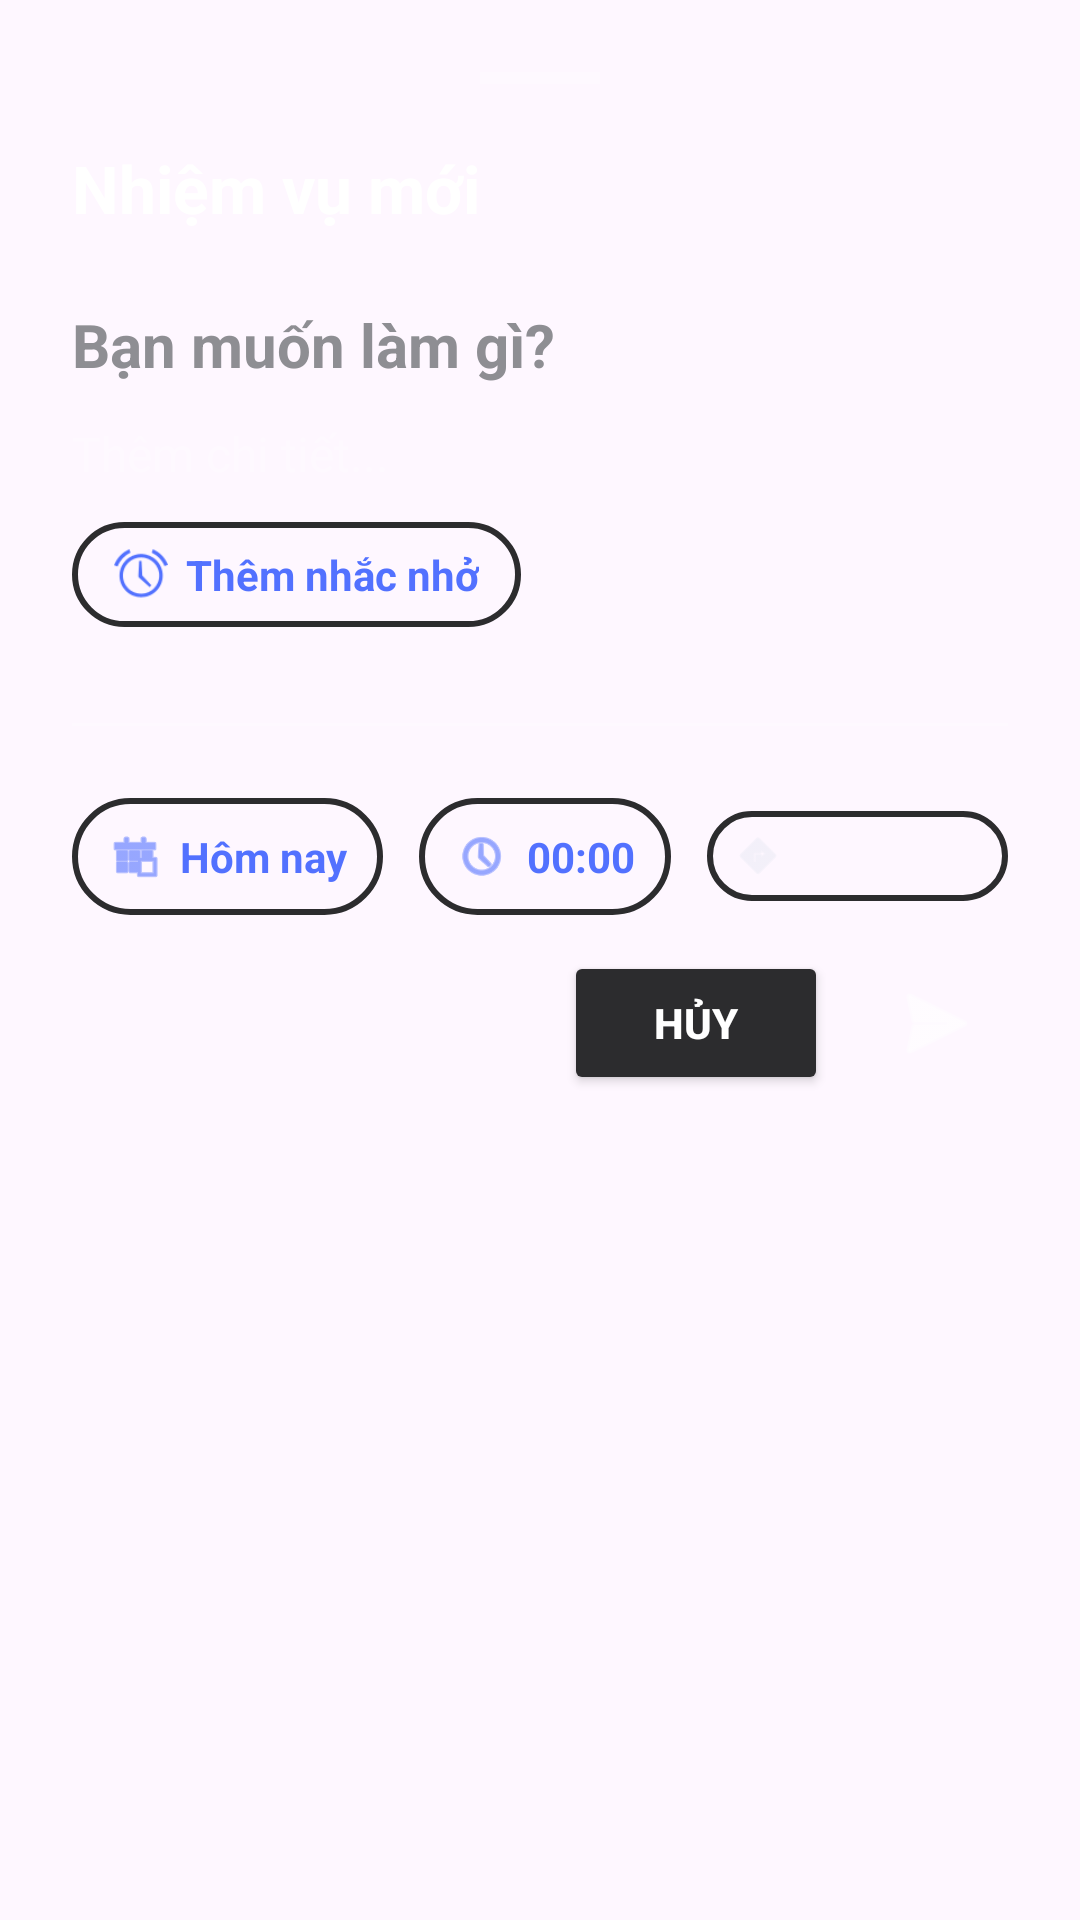

Where to tap for icons on this 1080*1920 app screen, as (x=x, y=y):
today: (x=135, y=856)
